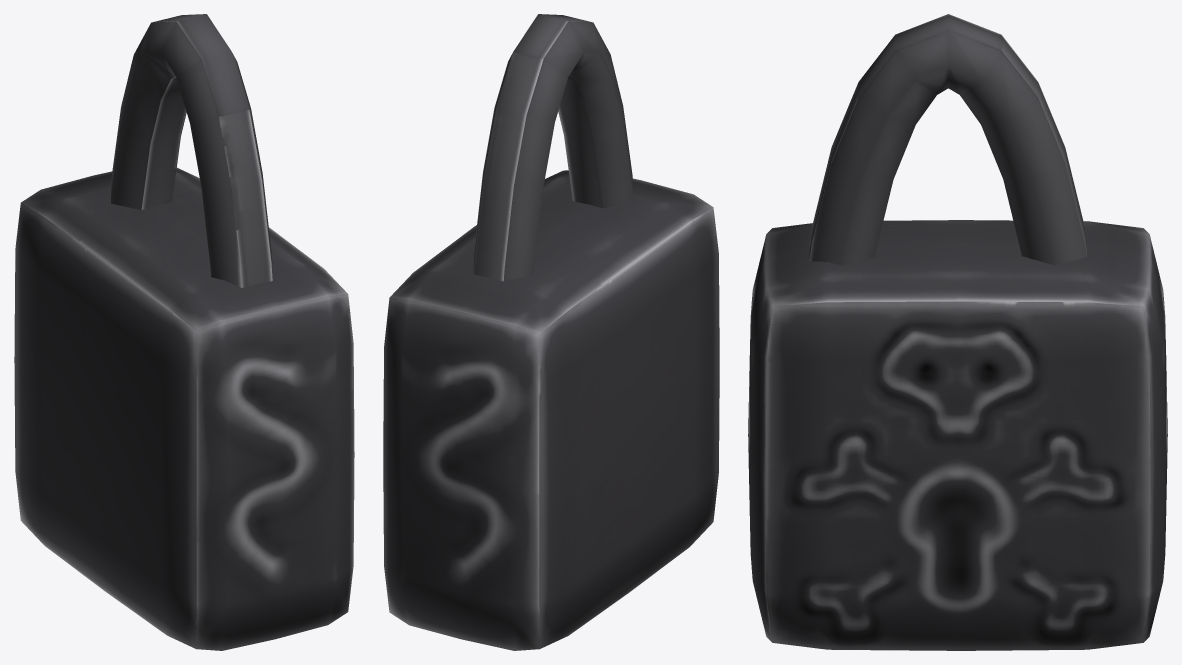
The model's file is SkullLockWT.fbx.
3 renders of one model, left to right at view 1: azimuth 30°, elevation 25°; view 2: azimuth 150°, elevation 25°; view 3: azimuth 270°, elevation 25°, orthographic. The views are drawn at different scales.
Visible parts, largest first — view 1: LockUpper; view 2: LockUpper; view 3: LockUpper.
Boxes of the visible parts, left/top/right/bottom form: LockUpper: left=14, top=14, right=354, bottom=650; LockUpper: left=383, top=14, right=719, bottom=650; LockUpper: left=748, top=14, right=1167, bottom=650.
Size of the model in its own units: 7.01 by 22.31 by 14.02.
Materials: 1 (1 with a texture image).
